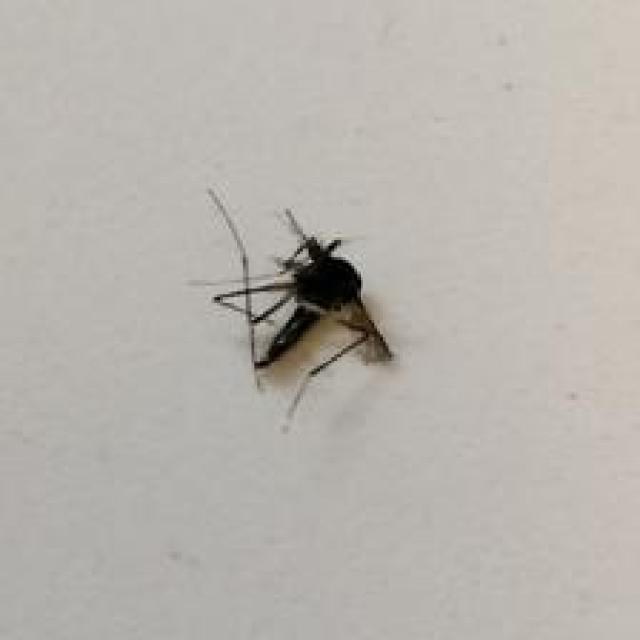Aedes albopictus: (204, 186, 396, 431)
